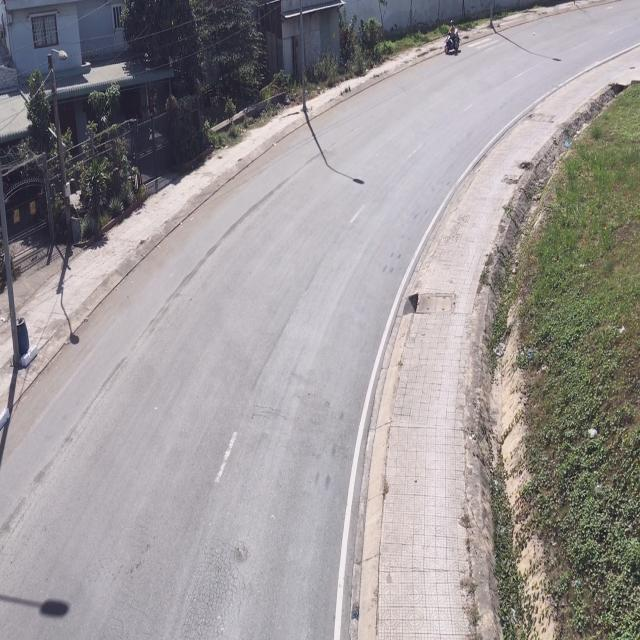motorbike: (445, 21, 461, 57)
